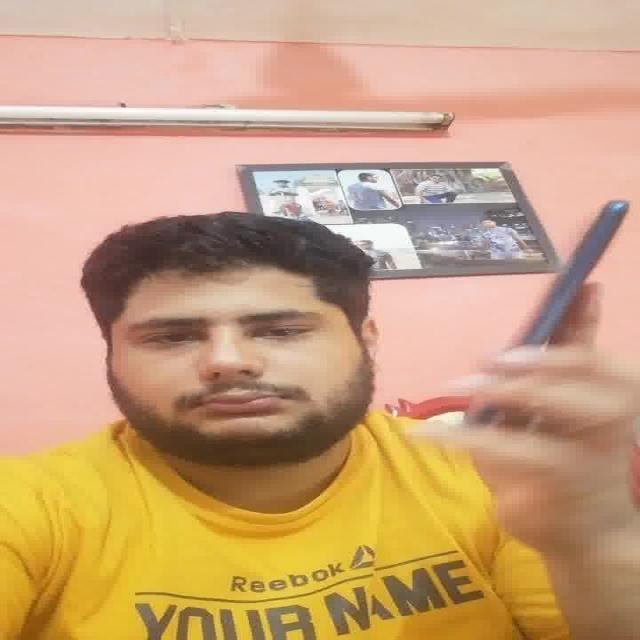Phone: (460, 195, 630, 439)
